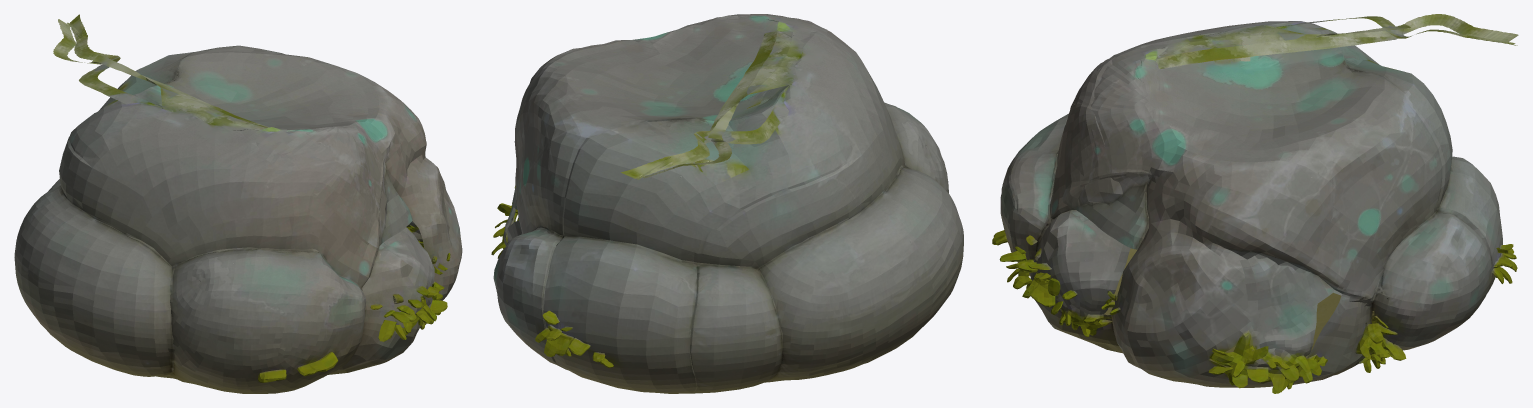
Rendered from tripo_convert_0231b3b2-f390-4976-8656-0e3f5c48bc5c.fbx.
3 views of the same model, side by side, from view 1: azimuth 30°, elevation 25°; view 2: azimuth 150°, elevation 25°; view 3: azimuth 270°, elevation 25° (orthographic). The views are drawn at different scales.
Visible parts, largest first — view 1: tripo_node_0231b3b2; view 2: tripo_node_0231b3b2; view 3: tripo_node_0231b3b2.
Part boxes in pixels (x1,y1,x2,y2): tripo_node_0231b3b2: [14, 14, 462, 393]; tripo_node_0231b3b2: [491, 14, 963, 393]; tripo_node_0231b3b2: [992, 14, 1518, 393].
Size of the model in its own units: 0.9445 by 0.5971 by 0.9972.
1 material, 1 textured.
